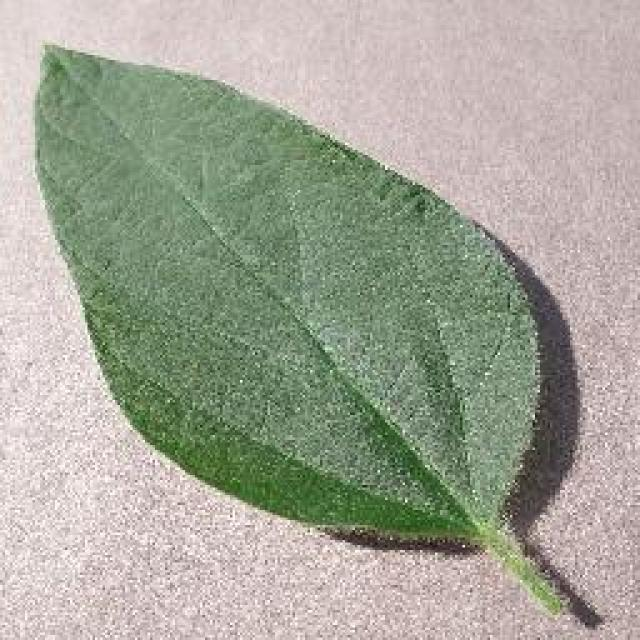Soy_healthy: (51, 94, 514, 506)
